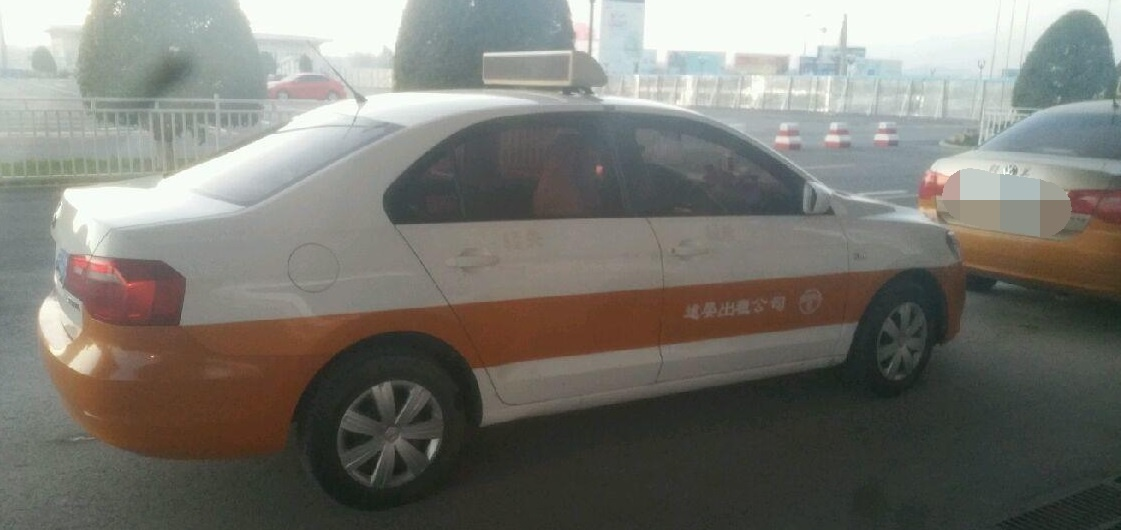taxi: (40, 78, 981, 485)
